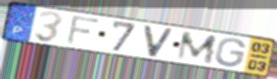3: (33, 10, 67, 44)
7: (110, 19, 139, 53)
F: (65, 14, 102, 46)
G: (214, 37, 248, 68)
M: (174, 31, 219, 65)
V: (143, 24, 176, 59)
